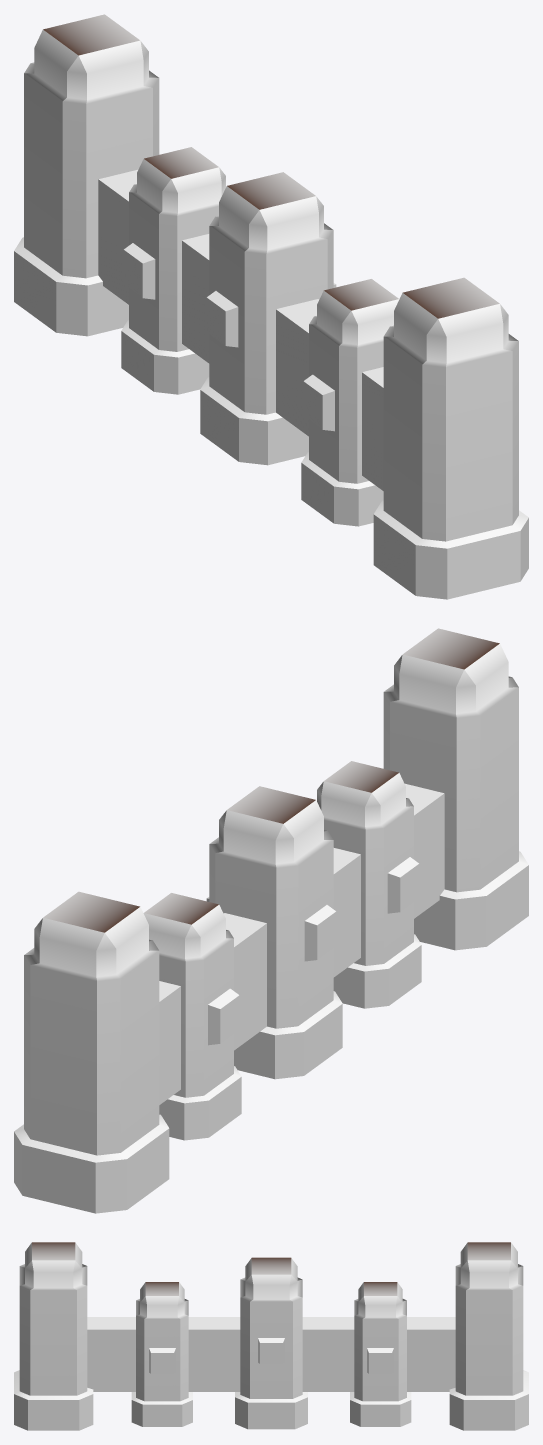
Rendered from Wall_Lv11_2.fbx.
3 renders of one model, top to bottom at view 1: azimuth 30°, elevation 25°; view 2: azimuth 150°, elevation 25°; view 3: azimuth 270°, elevation 25°, orthographic. The views are drawn at different scales.
Visible parts, largest first — view 1: Wall; view 2: Wall; view 3: Wall.
Part boxes in pixels (x1=…): Wall: x1=14, y1=14, x2=528, y2=599; Wall: x1=14, y1=628, x2=528, y2=1213; Wall: x1=14, y1=1242, x2=528, y2=1430.
Bounding box in the file's own units: 0.2422 × 0.5491 × 1.57.
